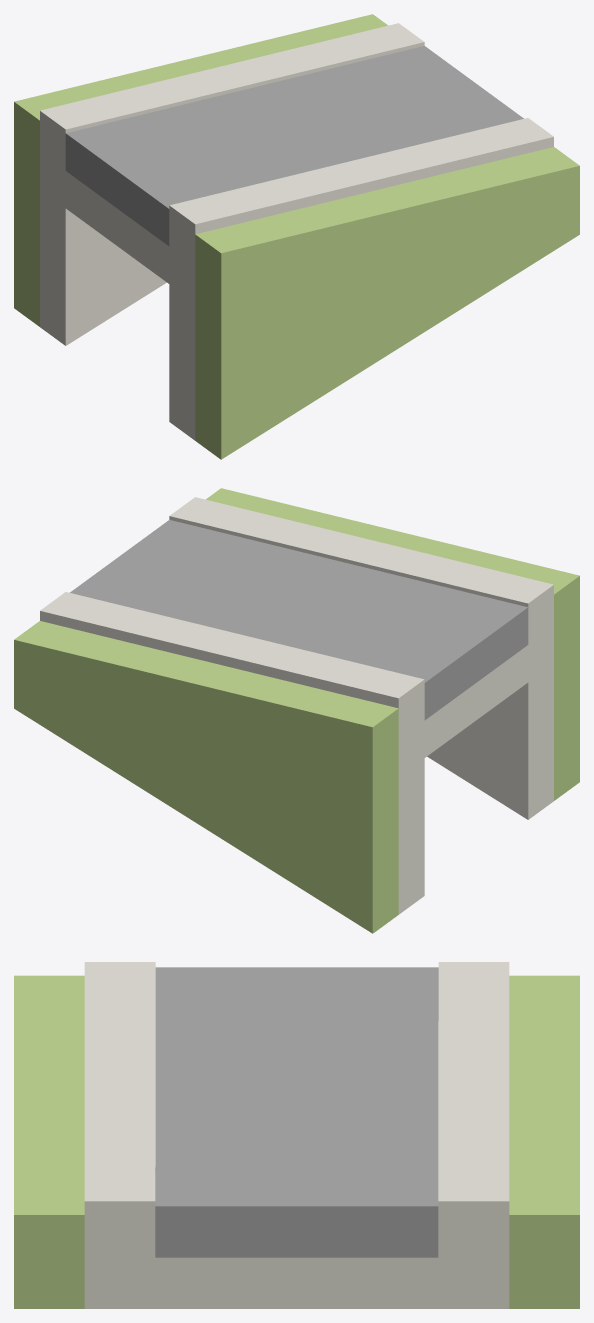
The model's file is tile057.glb.
3 views of the same model, one above another, from view 1: azimuth 30°, elevation 25°; view 2: azimuth 150°, elevation 25°; view 3: azimuth 270°, elevation 25° (orthographic). The views are drawn at different scales.
Parts seen in each view (by area): view 1: tile057; view 2: tile057; view 3: tile057.
Boxes of the visible parts, x1,y1,x2,y2 form: tile057: (14, 14, 579, 459); tile057: (14, 488, 579, 933); tile057: (14, 962, 579, 1308).
Size of the model in its own units: 1 by 0.5767 by 1.
